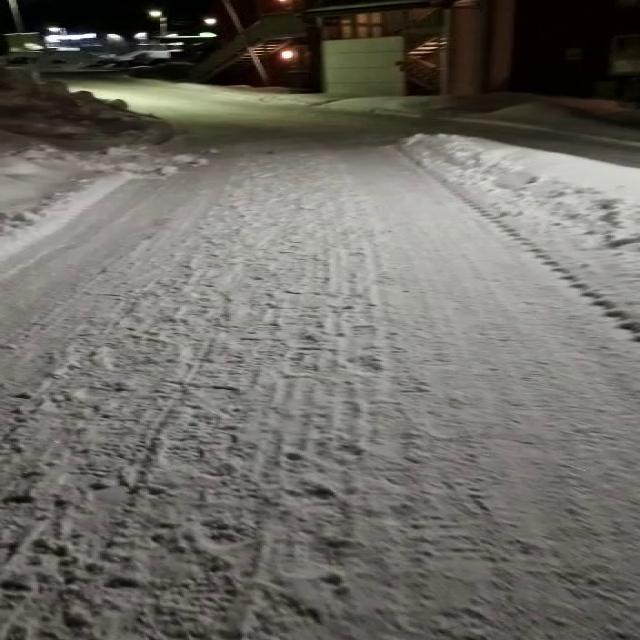path: (2, 79, 640, 640)
